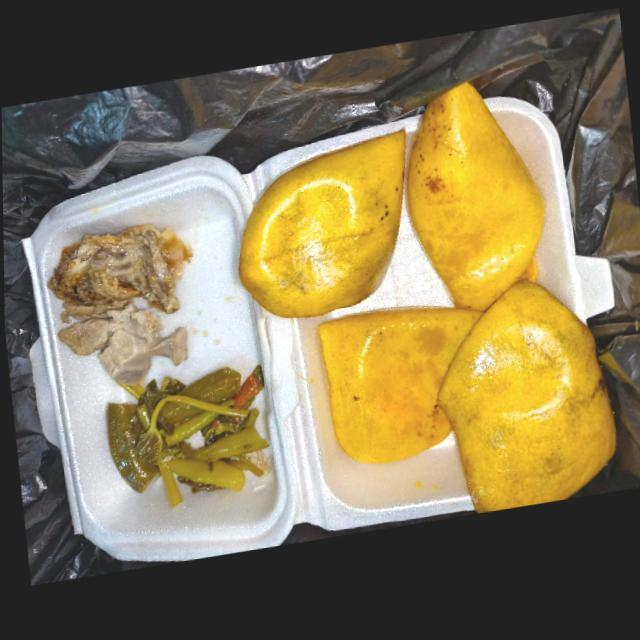left_over_food: (46, 225, 193, 316), (56, 298, 187, 388)
